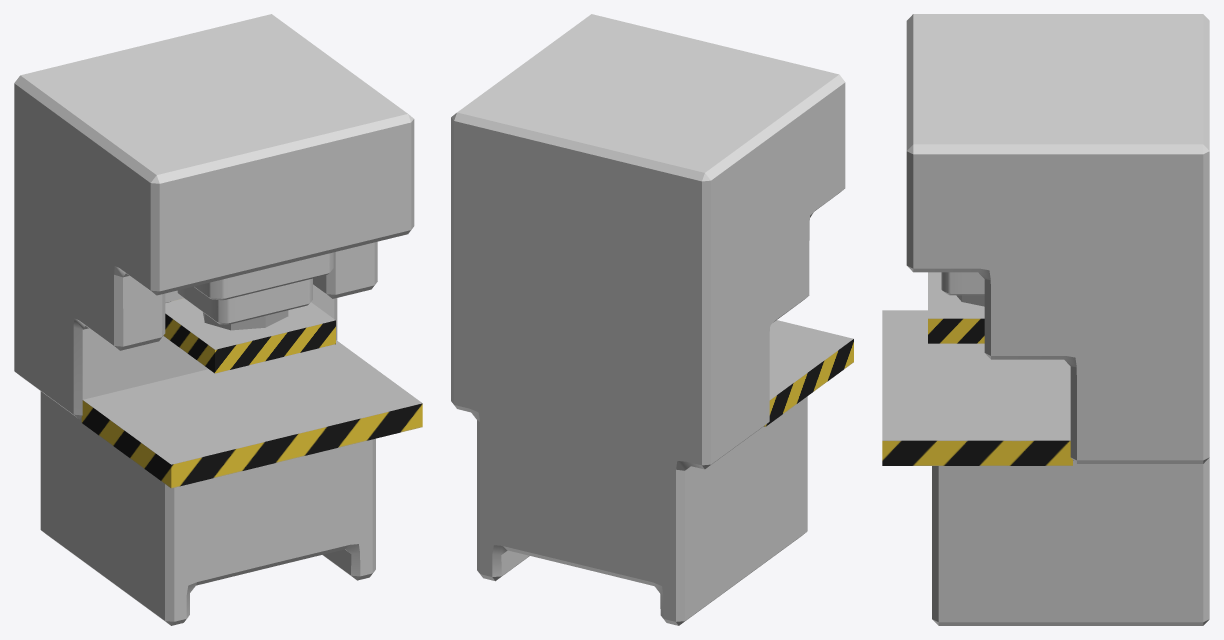
Rendered from Press.fbx.
3 views of the same model, side by side, from view 1: azimuth 30°, elevation 25°; view 2: azimuth 150°, elevation 25°; view 3: azimuth 270°, elevation 25° (orthographic). The views are drawn at different scales.
Parts seen in each view (by area): view 1: Press_Main, Press_Hy_Table, Press_Hy_Press, Press_Hy_Part, Press_Hy_Cyl; view 2: Press_Main, Press_Hy_Table; view 3: Press_Main, Press_Hy_Table, Press_Hy_Press, Press_Hy_Part.
Part boxes in pixels (x1,y1,x2,y2): Press_Main: (14, 14, 414, 625); Press_Hy_Table: (81, 340, 422, 488); Press_Hy_Press: (163, 298, 335, 373); Press_Hy_Part: (177, 252, 333, 324); Press_Hy_Cyl: (203, 310, 288, 330); Press_Main: (451, 14, 845, 625); Press_Hy_Table: (764, 320, 853, 426); Press_Main: (906, 14, 1209, 625); Press_Hy_Table: (882, 310, 1072, 465); Press_Hy_Press: (928, 272, 984, 343); Press_Hy_Part: (941, 272, 984, 295).
Bounding box in the file's own units: 9.35 × 15.79 × 9.47.
Materials: 3 (1 with a texture image).
